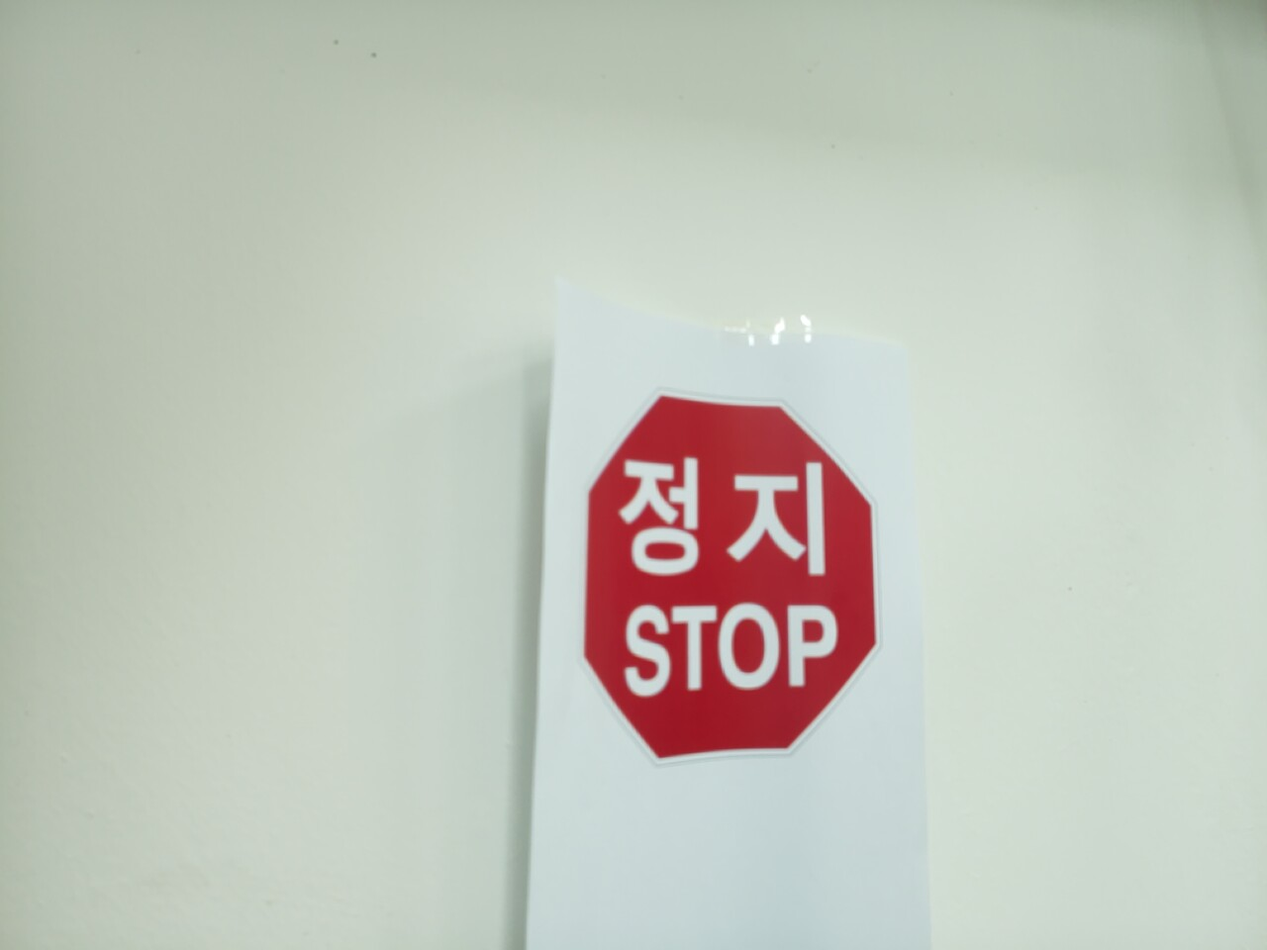stop: (574, 385, 886, 769)
